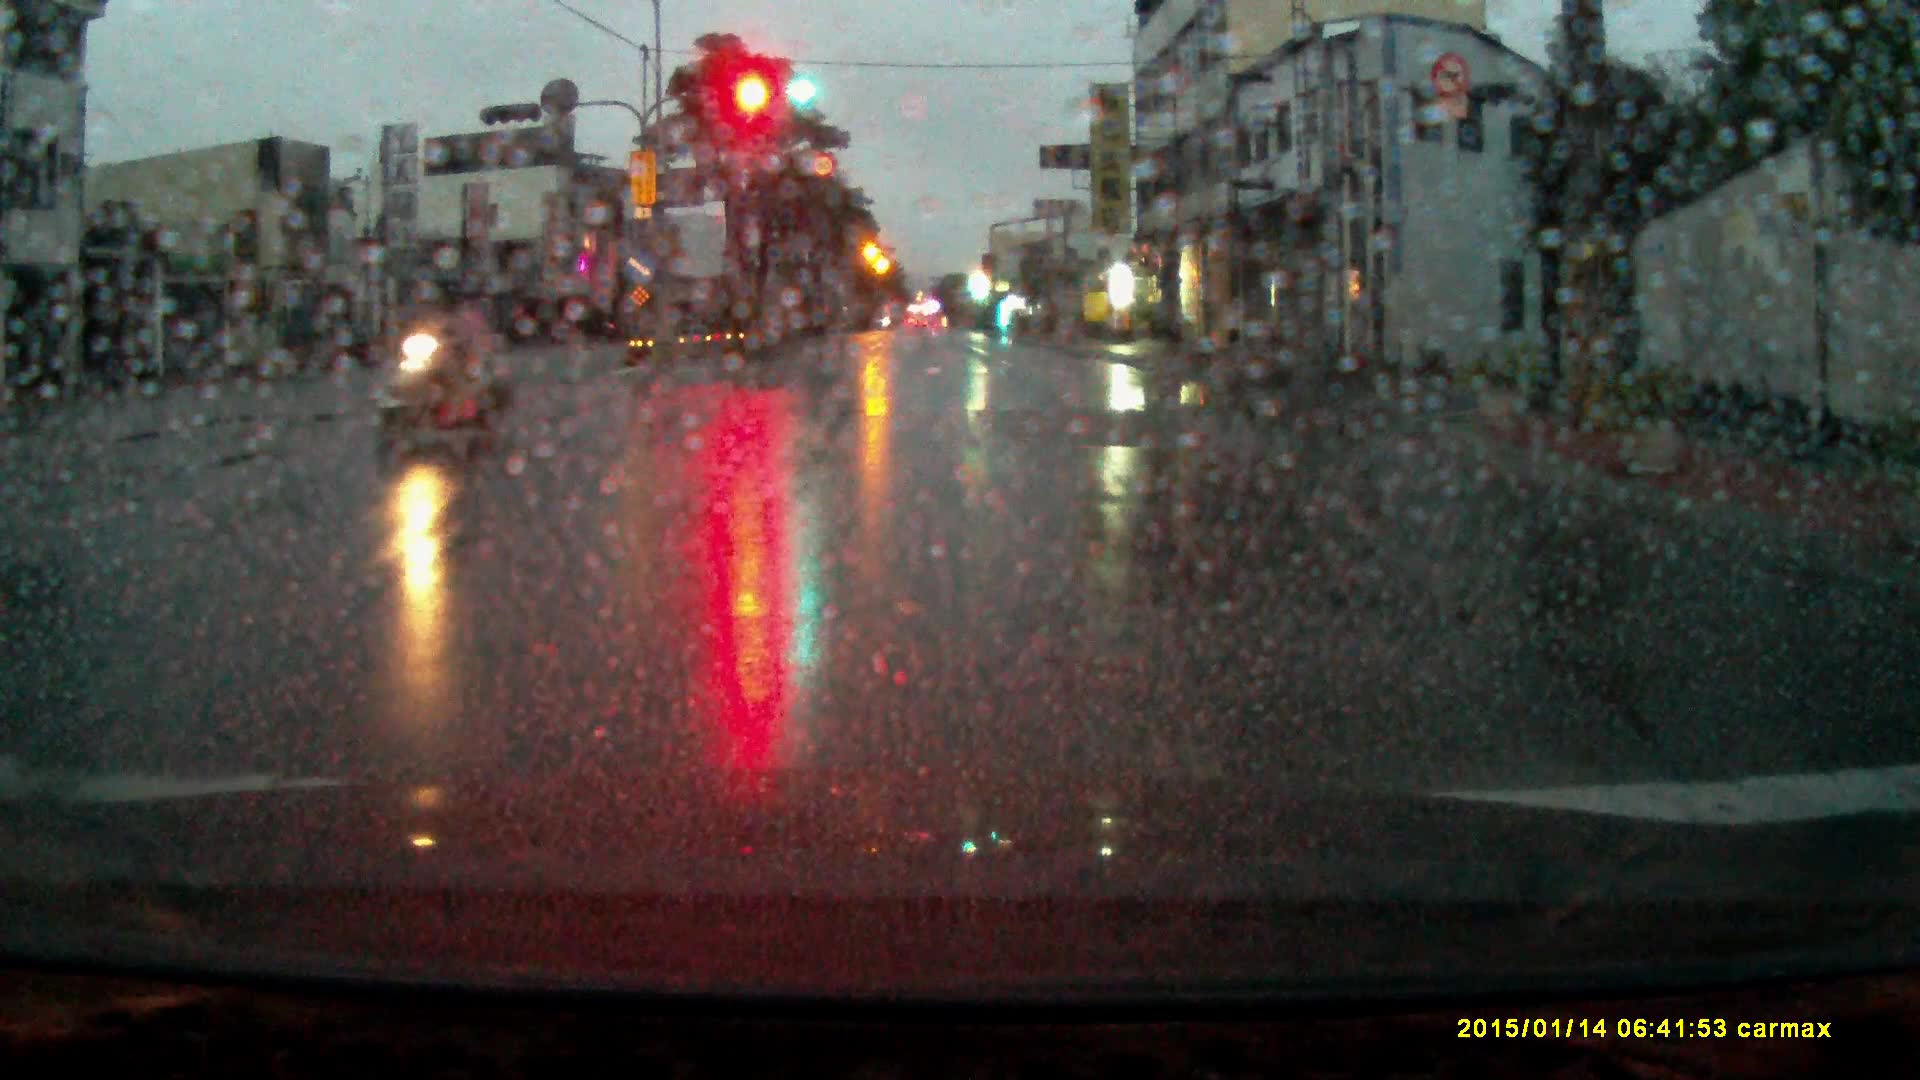rider: (372, 270, 508, 451)
